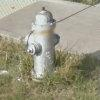Hydrant: (19, 4, 71, 96)
